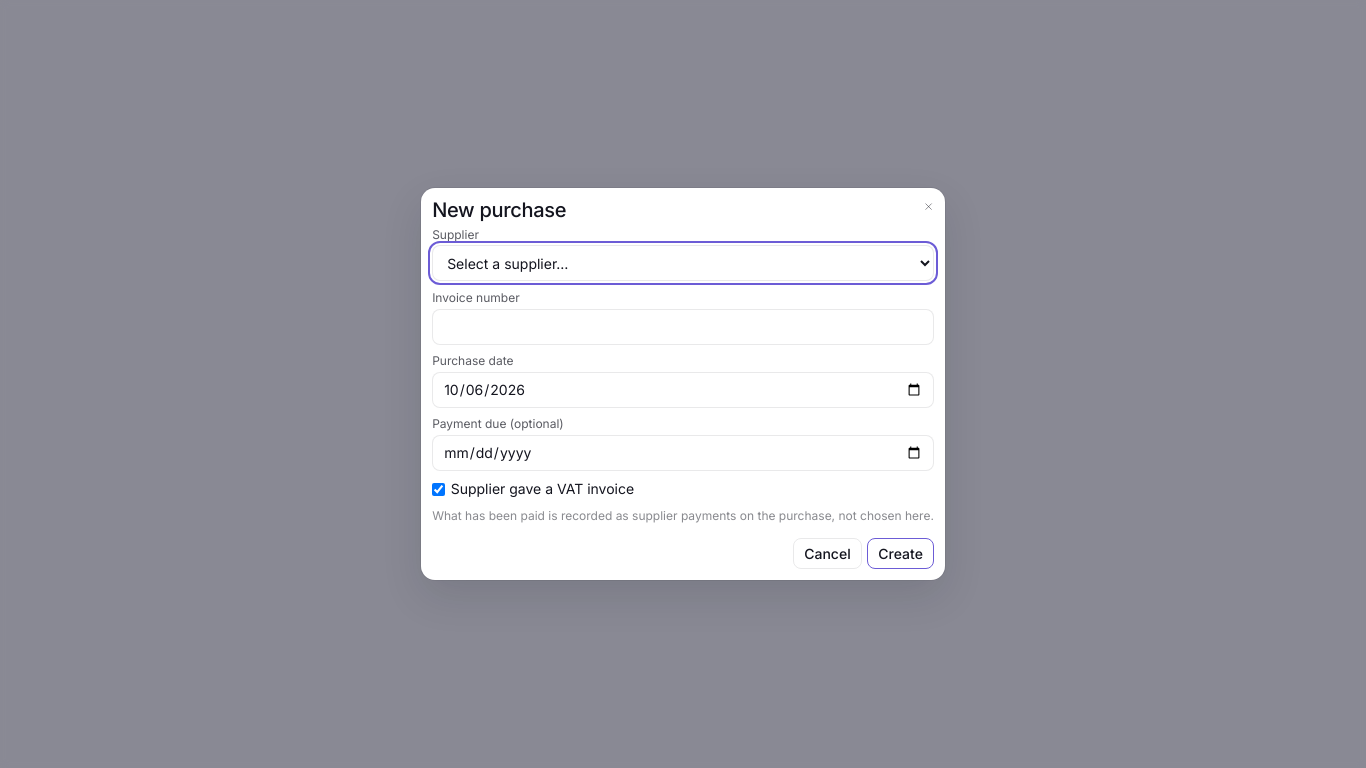
Scenario: NewPurchaseDialog › requires a supplier before submitting
Click the button "Create" at (901, 554), box [867,538,934,569]
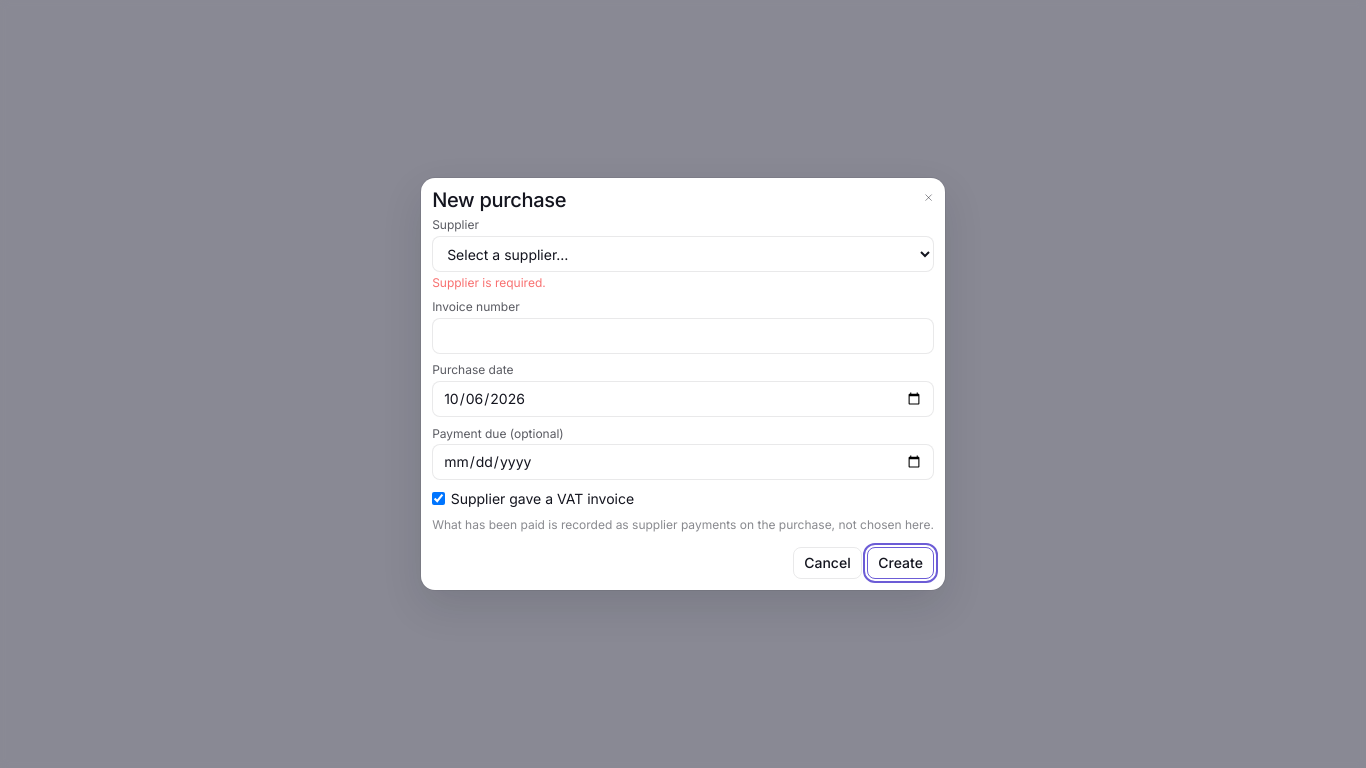
Now the text "Supplier is required." is shown, box [432,275,546,290]
